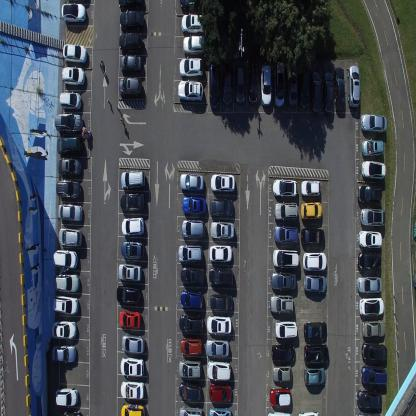car: (53, 112, 83, 134), (61, 1, 87, 24), (178, 79, 204, 102), (361, 363, 387, 386), (53, 294, 80, 316), (270, 270, 297, 292), (56, 134, 83, 156), (273, 59, 285, 107), (52, 248, 78, 270), (55, 178, 81, 200), (56, 156, 82, 178), (62, 42, 88, 64), (361, 112, 387, 134), (362, 341, 388, 363), (62, 64, 86, 87), (298, 62, 310, 108), (362, 159, 386, 182), (208, 265, 233, 287), (180, 264, 205, 286), (208, 196, 233, 218), (209, 172, 234, 194), (356, 388, 381, 410), (206, 360, 231, 382), (119, 10, 144, 32), (120, 190, 145, 212), (360, 206, 385, 228), (52, 320, 78, 341), (221, 61, 233, 106), (260, 62, 272, 107), (181, 217, 205, 239), (302, 250, 326, 272), (178, 380, 202, 402), (58, 226, 82, 248), (348, 64, 360, 108), (272, 248, 298, 268), (206, 314, 232, 334), (116, 262, 142, 282), (57, 202, 83, 222), (120, 169, 146, 189), (120, 80, 143, 102), (209, 382, 232, 404), (120, 52, 143, 74), (210, 219, 234, 240), (179, 172, 203, 193), (304, 343, 328, 364), (269, 293, 293, 314), (58, 90, 82, 111), (180, 13, 204, 34), (358, 228, 382, 249), (357, 250, 381, 271), (116, 285, 141, 305), (120, 380, 145, 400), (54, 388, 79, 408), (209, 60, 219, 110), (273, 201, 298, 221), (272, 178, 297, 198), (357, 275, 382, 295), (361, 318, 386, 338), (247, 59, 258, 104), (334, 67, 345, 112), (177, 244, 203, 263), (54, 273, 80, 292), (209, 242, 232, 263), (118, 309, 141, 330), (274, 319, 297, 340), (179, 336, 203, 356), (303, 320, 327, 340), (178, 359, 202, 379), (120, 357, 144, 377), (205, 338, 229, 358), (182, 36, 206, 56), (179, 57, 203, 77), (274, 224, 298, 244), (358, 184, 382, 204), (271, 343, 296, 362), (359, 297, 384, 316), (180, 288, 202, 309), (269, 387, 291, 408), (121, 240, 144, 260), (119, 32, 142, 52), (120, 335, 144, 354), (182, 196, 206, 215), (121, 217, 145, 236), (179, 314, 204, 332), (52, 346, 77, 364), (288, 62, 298, 107), (361, 139, 384, 158), (311, 71, 321, 114), (323, 71, 333, 114), (300, 228, 325, 245), (304, 366, 325, 386), (300, 178, 321, 198), (300, 201, 322, 220), (210, 292, 233, 310), (303, 274, 326, 292), (235, 64, 245, 104), (271, 364, 293, 382), (178, 0, 204, 12), (120, 404, 146, 415), (179, 406, 203, 416), (118, 0, 143, 8), (209, 407, 232, 415), (298, 409, 320, 415), (60, 410, 82, 416), (267, 410, 291, 415), (355, 411, 383, 415)
